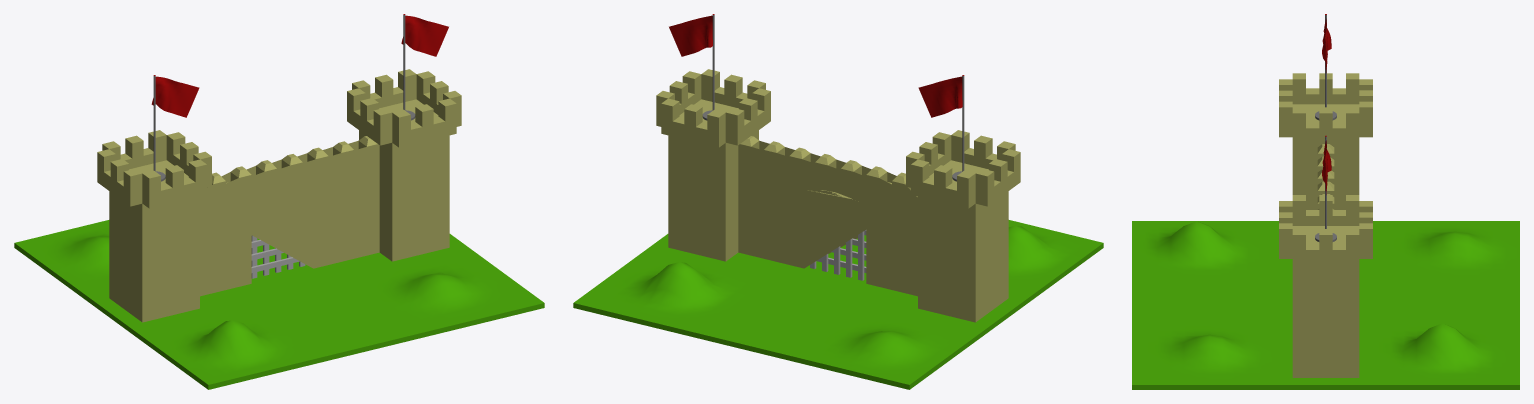
The model's file is DAGV1200_Scene2.fbx.
3 renders of one model, left to right at view 1: azimuth 30°, elevation 25°; view 2: azimuth 150°, elevation 25°; view 3: azimuth 270°, elevation 25°, orthographic.
Visible parts, largest first — view 1: Huntsman_Asset6:GrassyHillTerrain, Huntsman_Asset3:CheckpointWall, Huntsman_Asset2:CheckpointTower, CheckpointTower, Huntsman_Asset5:Flagpole, Flagpole, Huntsman_Asset4:Portcullis; view 2: Huntsman_Asset6:GrassyHillTerrain, Huntsman_Asset3:CheckpointWall, Huntsman_Asset2:CheckpointTower, CheckpointTower, Huntsman_Asset5:Flagpole, Flagpole, Huntsman_Asset4:Portcullis; view 3: Huntsman_Asset6:GrassyHillTerrain, CheckpointTower, Huntsman_Asset2:CheckpointTower, Huntsman_Asset3:CheckpointWall, Huntsman_Asset5:Flagpole, Flagpole.
Part boxes in pixels (x1=…): Huntsman_Asset6:GrassyHillTerrain: x1=14, y1=220, x2=544, y2=389; Huntsman_Asset3:CheckpointWall: x1=200, y1=136, x2=379, y2=296; Huntsman_Asset2:CheckpointTower: x1=97, y1=130, x2=211, y2=322; CheckpointTower: x1=347, y1=69, x2=461, y2=261; Huntsman_Asset5:Flagpole: x1=151, y1=75, x2=199, y2=181; Flagpole: x1=401, y1=14, x2=448, y2=120; Huntsman_Asset4:Portcullis: x1=251, y1=235, x2=305, y2=278; Huntsman_Asset6:GrassyHillTerrain: x1=573, y1=220, x2=1103, y2=389; Huntsman_Asset3:CheckpointWall: x1=738, y1=136, x2=917, y2=296; Huntsman_Asset2:CheckpointTower: x1=906, y1=130, x2=1020, y2=322; CheckpointTower: x1=656, y1=69, x2=770, y2=261; Huntsman_Asset5:Flagpole: x1=918, y1=75, x2=964, y2=181; Flagpole: x1=669, y1=14, x2=714, y2=120; Huntsman_Asset4:Portcullis: x1=810, y1=230, x2=866, y2=280; Huntsman_Asset6:GrassyHillTerrain: x1=1132, y1=221, x2=1519, y2=389; CheckpointTower: x1=1279, y1=195, x2=1372, y2=377; Huntsman_Asset2:CheckpointTower: x1=1279, y1=73, x2=1372, y2=209; Huntsman_Asset3:CheckpointWall: x1=1317, y1=144, x2=1334, y2=209; Huntsman_Asset5:Flagpole: x1=1315, y1=14, x2=1336, y2=120; Flagpole: x1=1315, y1=135, x2=1336, y2=241.
Size of the model in its own units: 35.17 by 23.18 by 35.
